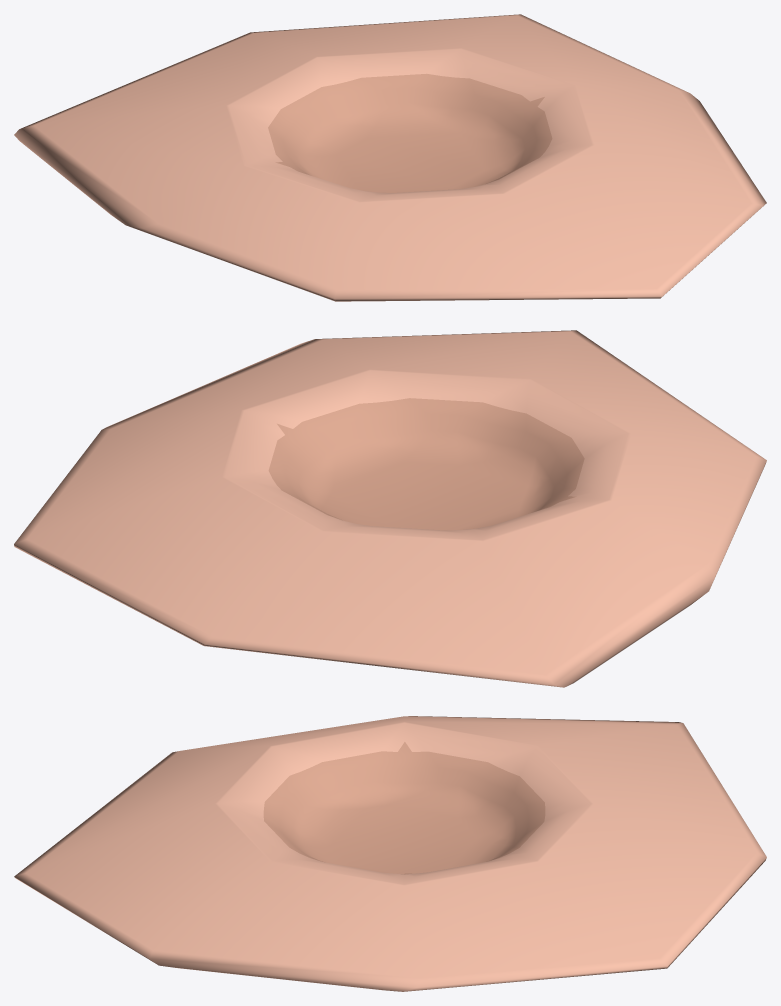
The model's file is crater.glb.
The picture shows the model from 3 angles, top to bottom: view 1: azimuth 30°, elevation 25°; view 2: azimuth 150°, elevation 25°; view 3: azimuth 270°, elevation 25°; orthographic projection. The views are drawn at different scales.
Parts seen in each view (by area): view 1: craterLarge; view 2: craterLarge; view 3: craterLarge.
Part boxes in pixels (<box>): craterLarge: <box>14,14,766,301</box>; craterLarge: <box>14,330,766,687</box>; craterLarge: <box>14,716,766,991</box>.
Bounding box in the file's own units: 3.87 × 0.3102 × 4.49.
